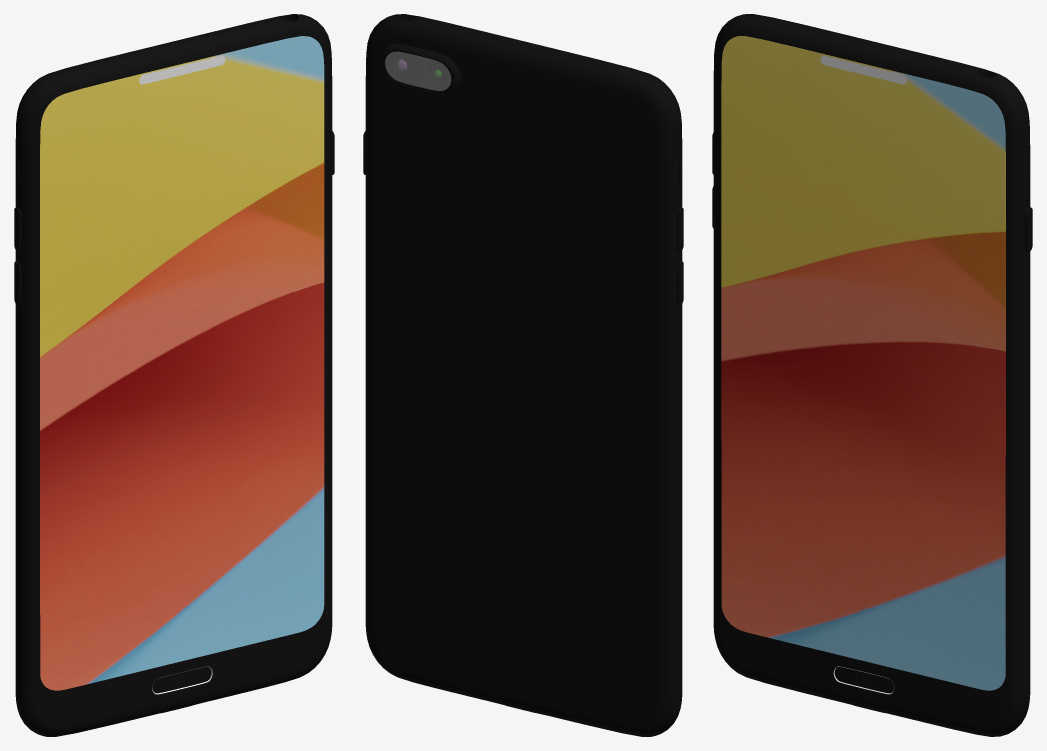
File: smartphone.glb
The picture shows the model from 3 angles, left to right: view 1: azimuth 30°, elevation 25°; view 2: azimuth 150°, elevation 25°; view 3: azimuth 330°, elevation 25°; orthographic projection.
Parts seen in each view (by area): view 1: Object_9, Object_10, Object_8; view 2: Object_10, Object_4, Object_3; view 3: Object_9, Object_10, Object_8.
Part boxes in pixels (x1,y1,x2,y2): Object_9: (40, 36, 324, 690); Object_10: (14, 14, 334, 736); Object_8: (139, 55, 225, 84); Object_10: (363, 14, 683, 736); Object_4: (385, 51, 451, 90); Object_3: (387, 53, 446, 85); Object_9: (721, 36, 1005, 690); Object_10: (712, 14, 1032, 736); Object_8: (820, 55, 906, 84).
Size of the model in its own units: 3.44 by 6.91 by 0.3647.
Materials: 8 (2 with a texture image).
